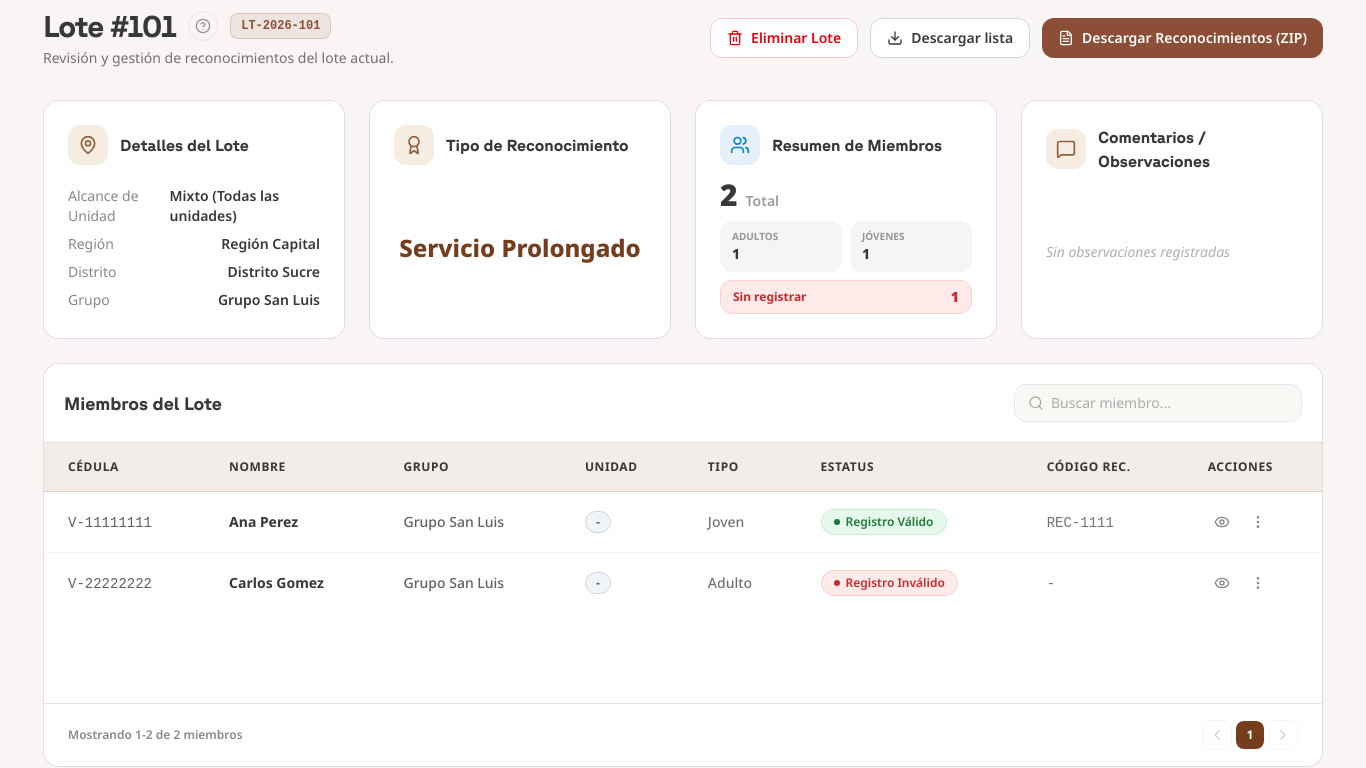
BatchDetail component › filters member table by search query
Expected: the text "Ana Perez" is shown, [229, 512, 298, 531]
In the field with placeholder "Buscar miembro...": (1158, 403) [1014, 384, 1302, 422], type "Carlos"
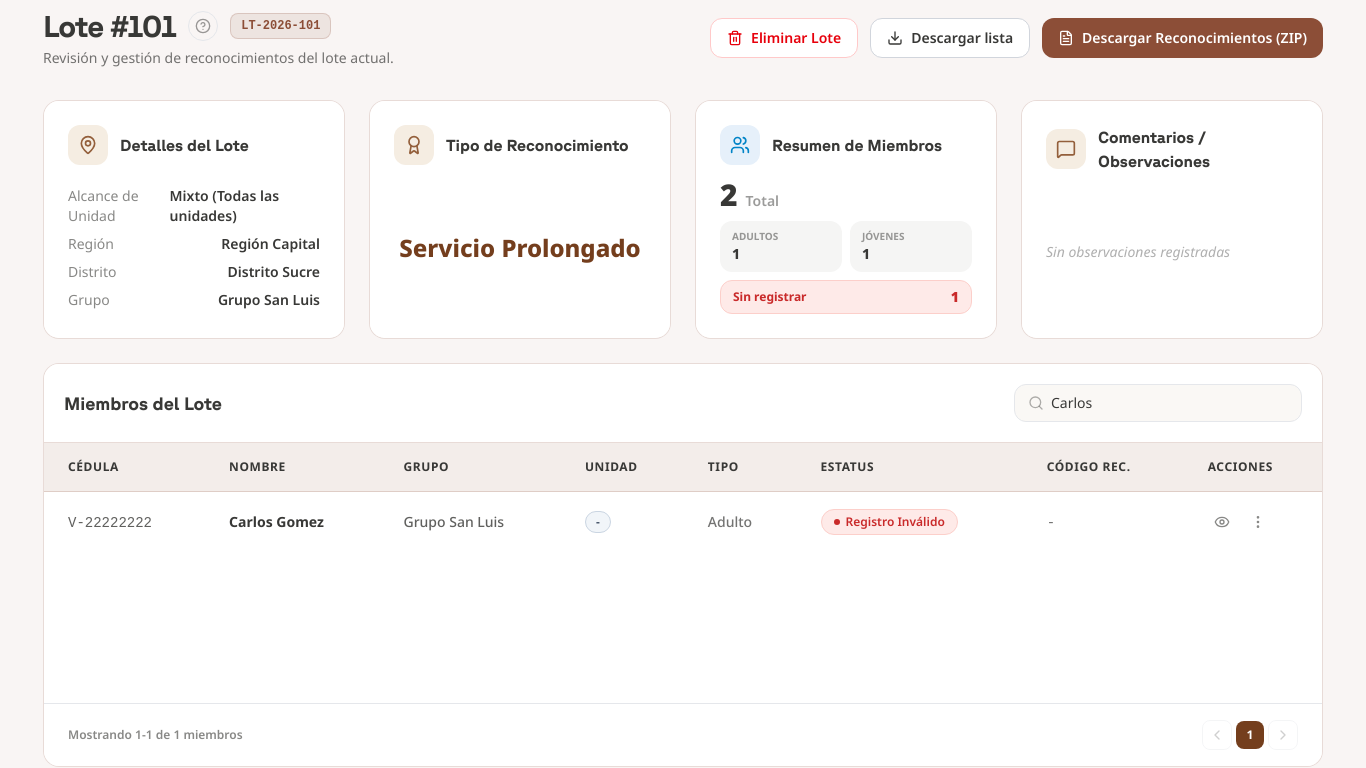
Expected: the text "Carlos Gomez" is shown, [229, 512, 324, 531]
Expected: the text "Ana Perez" is gone
